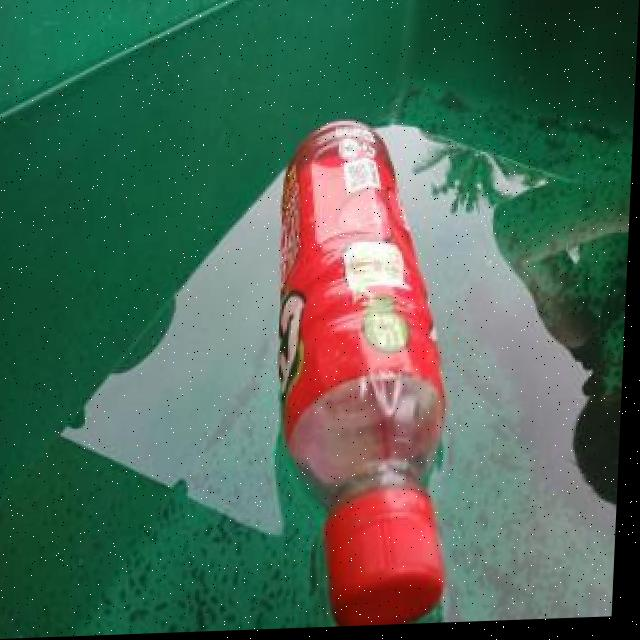bottle: (266, 114, 470, 632)
